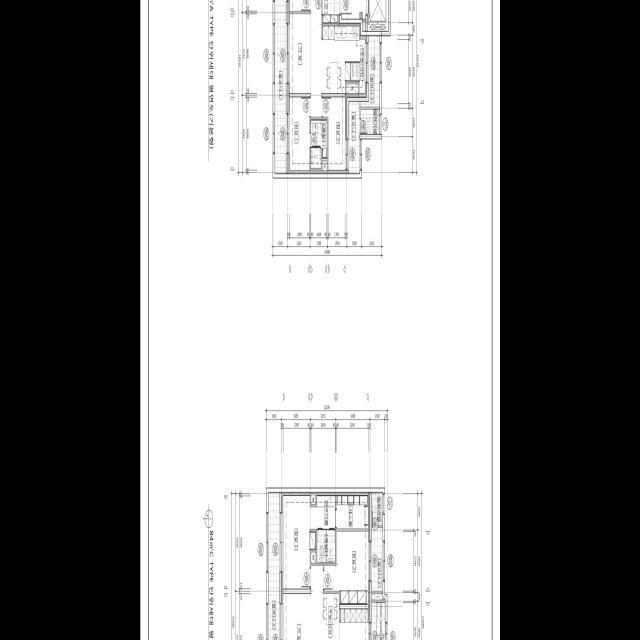background: (140, 0, 500, 640)
space_balconi: (347, 36, 379, 173), (275, 0, 286, 173), (268, 493, 279, 640), (371, 528, 382, 591), (371, 602, 385, 640)
space_bedroom: (324, 531, 369, 604), (281, 493, 315, 589), (322, 97, 347, 174), (288, 97, 309, 174), (288, 0, 309, 11)
space_dressroom: (336, 493, 369, 529), (310, 493, 335, 529)
space_elevator: (367, 0, 388, 31)
space_elevator_hall: (341, 0, 365, 19)
space_front: (321, 0, 339, 24)
space_kitchen: (321, 24, 366, 97), (323, 594, 369, 640)
space_living_room: (288, 0, 321, 117), (281, 565, 323, 640)
space_other: (346, 84, 358, 97), (371, 594, 385, 600), (322, 161, 327, 174), (311, 493, 315, 505), (311, 552, 315, 563), (362, 22, 365, 31)
space_outdoor_room: (361, 109, 379, 134), (372, 492, 382, 526)
space_toilet: (310, 120, 327, 168), (317, 530, 326, 563), (326, 530, 335, 563)
